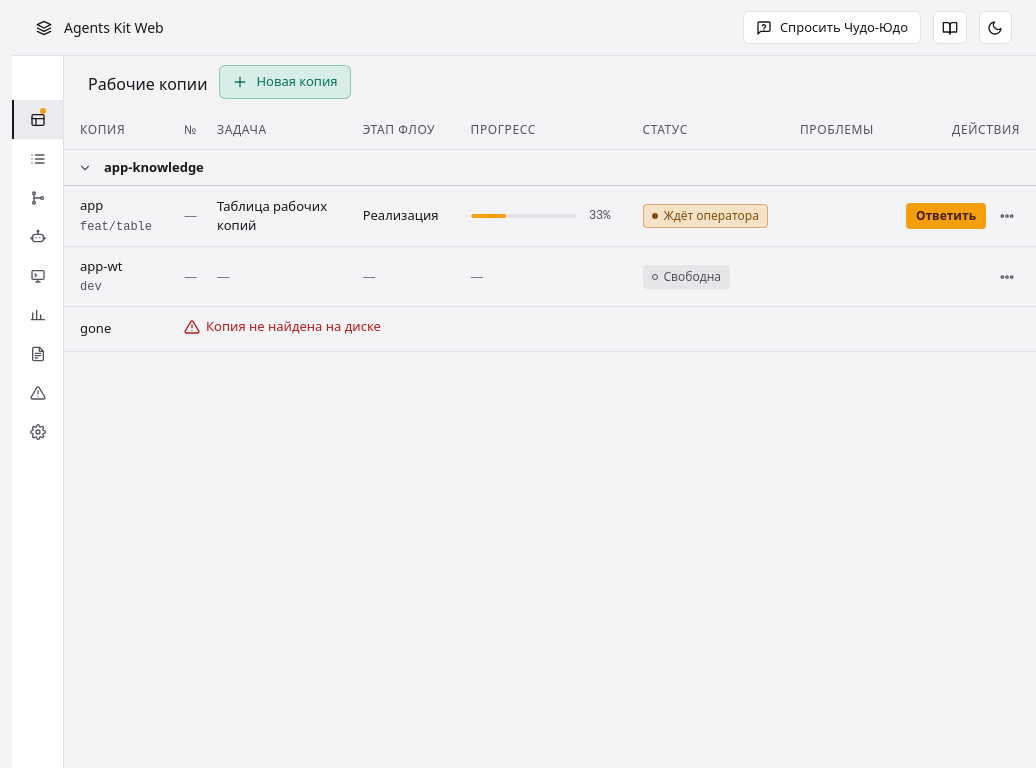
Test case: меню действий стоит у прочитанных копий и открывает в VS Code ту, чью строку нажали
Expected: the button named "Действия с app" is shown, [994,203,1020,229]
Click the button named "Действия с ": (1007, 276) [994,264,1020,290]
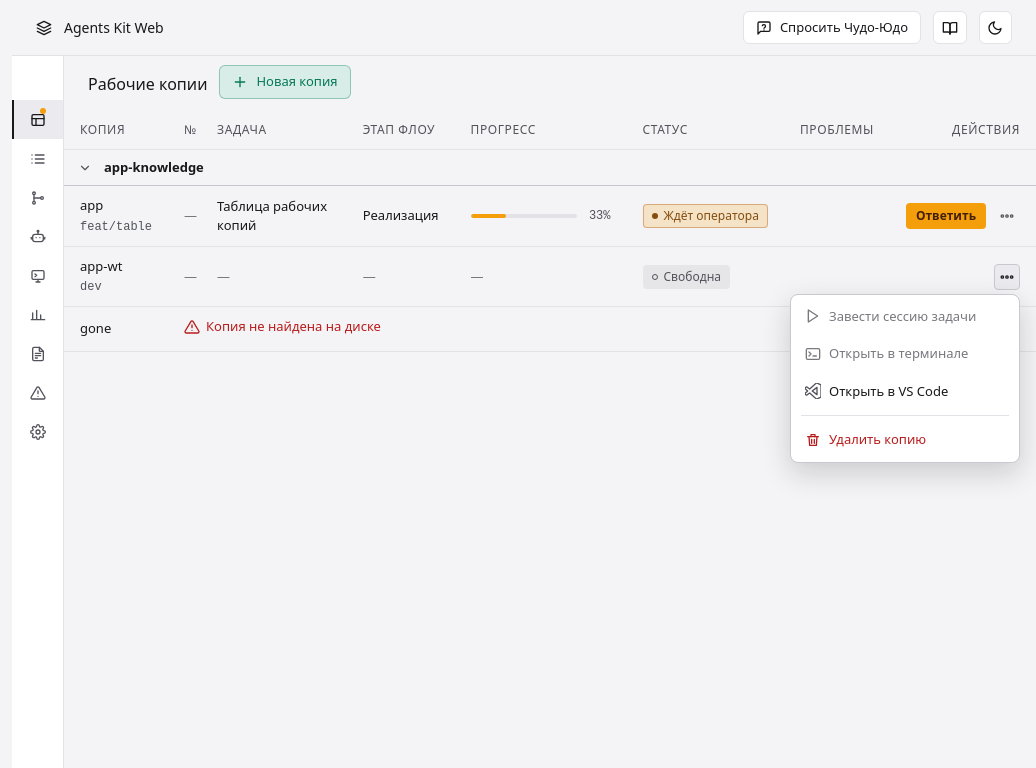
Click the menu item "Открыть в VS Code": (905, 391) [795,374,1015,409]
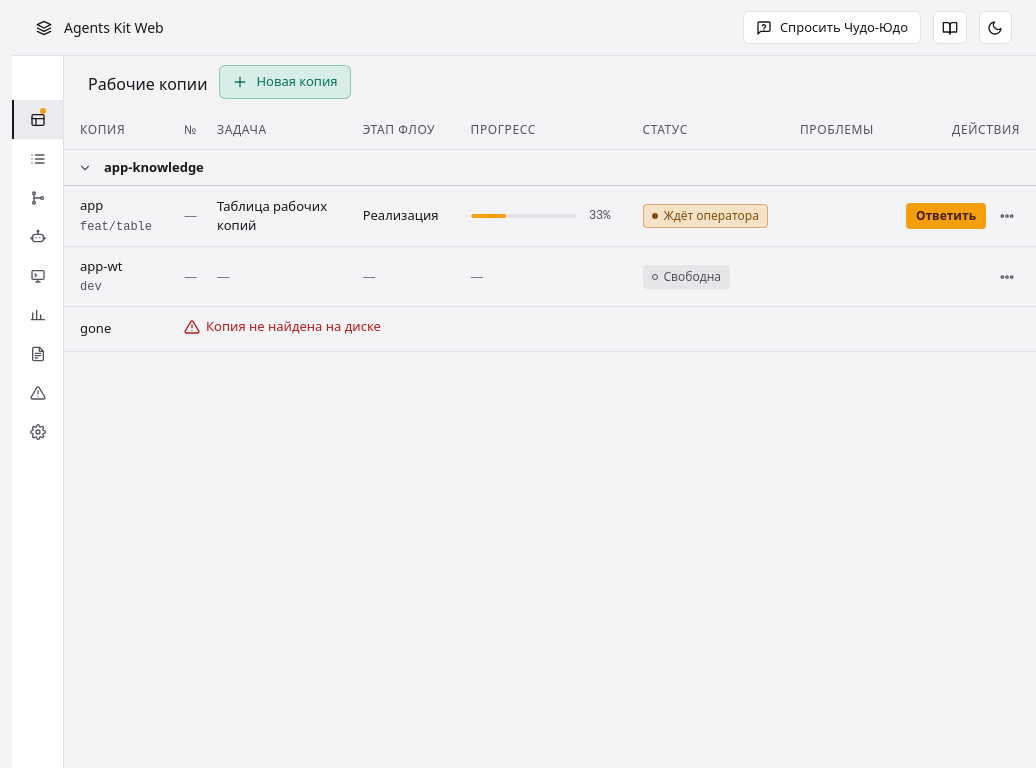
Expected: the menu is gone
